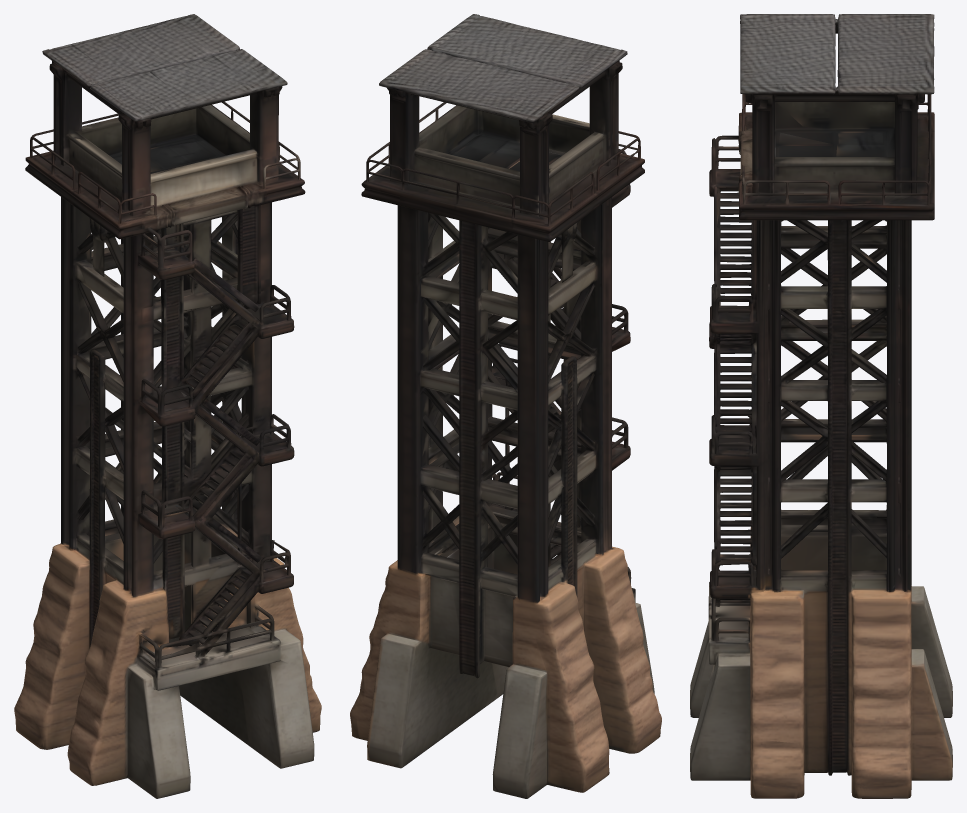
Rendered from Tower.fbx.
3 views of the same model, side by side, from view 1: azimuth 30°, elevation 25°; view 2: azimuth 150°, elevation 25°; view 3: azimuth 270°, elevation 25° (orthographic). The views are drawn at different scales.
Visible parts, largest first — view 1: Mesh_0; view 2: Mesh_0; view 3: Mesh_0.
Boxes of the visible parts, left/top/right/bottom form: Mesh_0: left=14, top=14, right=321, bottom=798; Mesh_0: left=350, top=14, right=661, bottom=798; Mesh_0: left=690, top=14, right=952, bottom=798.
Size of the model in its own units: 40.66 by 110 by 38.16.
1 material, 1 textured.
